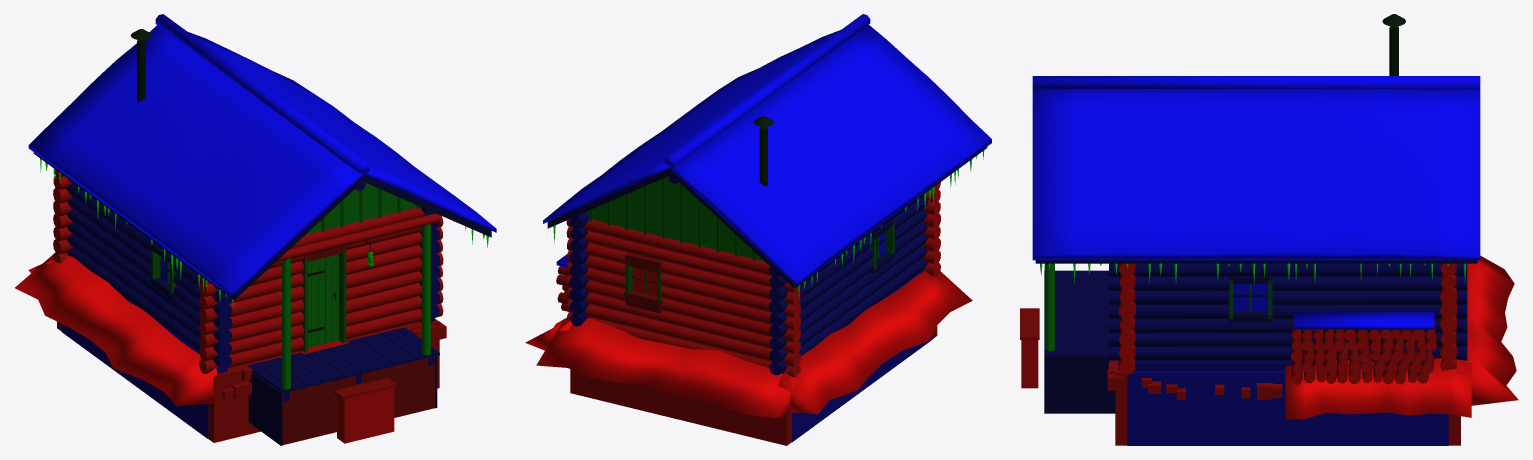
The model's file is cabin.glb.
The picture shows the model from 3 angles, left to right: view 1: azimuth 30°, elevation 25°; view 2: azimuth 150°, elevation 25°; view 3: azimuth 270°, elevation 25°; orthographic projection. The views are drawn at different scales.
Visible parts, largest first — view 1: cabin, cabin_door; view 2: cabin; view 3: cabin.
Part boxes in pixels (x1,y1,x2,y2): cabin: [15, 14, 496, 445]; cabin_door: [308, 254, 338, 347]; cabin: [525, 14, 991, 445]; cabin: [1020, 14, 1518, 445].
Bounding box in the file's own units: 7.03 × 6.5 × 8.69.
